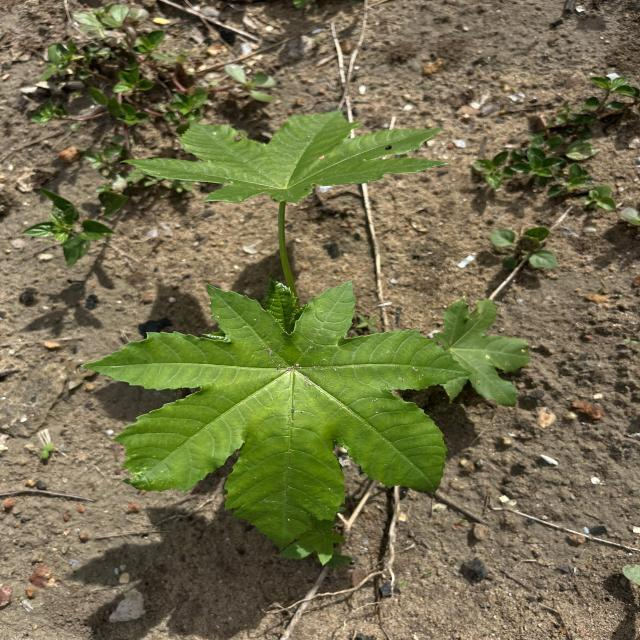Ricinus communis linn: (76, 278, 476, 556)
